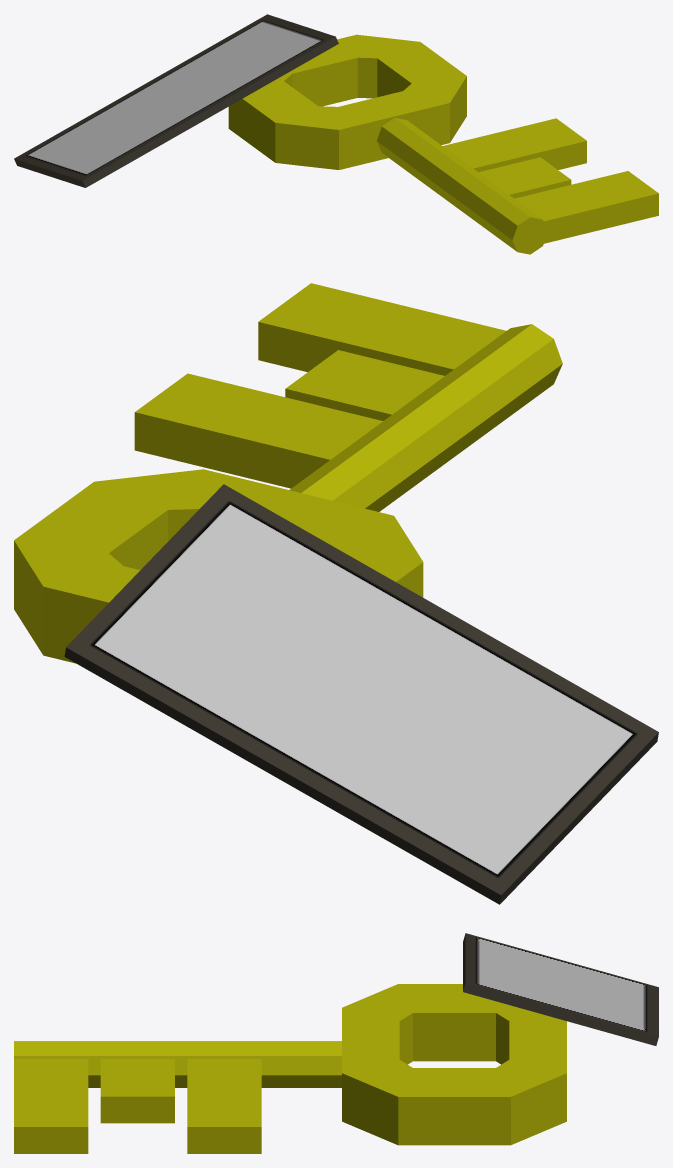
Rendered from Chave.fbx.
3 renders of one model, top to bottom at view 1: azimuth 30°, elevation 25°; view 2: azimuth 150°, elevation 25°; view 3: azimuth 270°, elevation 25°, orthographic. The views are drawn at different scales.
Visible parts, largest first — view 1: pCube25; view 2: pCube25; view 3: pCube25.
Part boxes in pixels (x1=…): pCube25: x1=14, y1=14, x2=658, y2=254; pCube25: x1=14, y1=283, x2=658, y2=904; pCube25: x1=14, y1=933, x2=658, y2=1153.
Size of the model in its own units: 1.1 by 0.3457 by 1.3.
